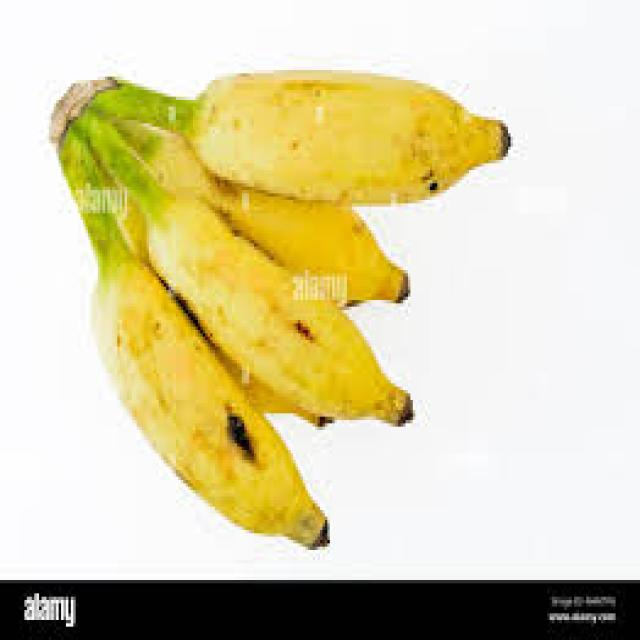banana: (47, 67, 510, 550)
